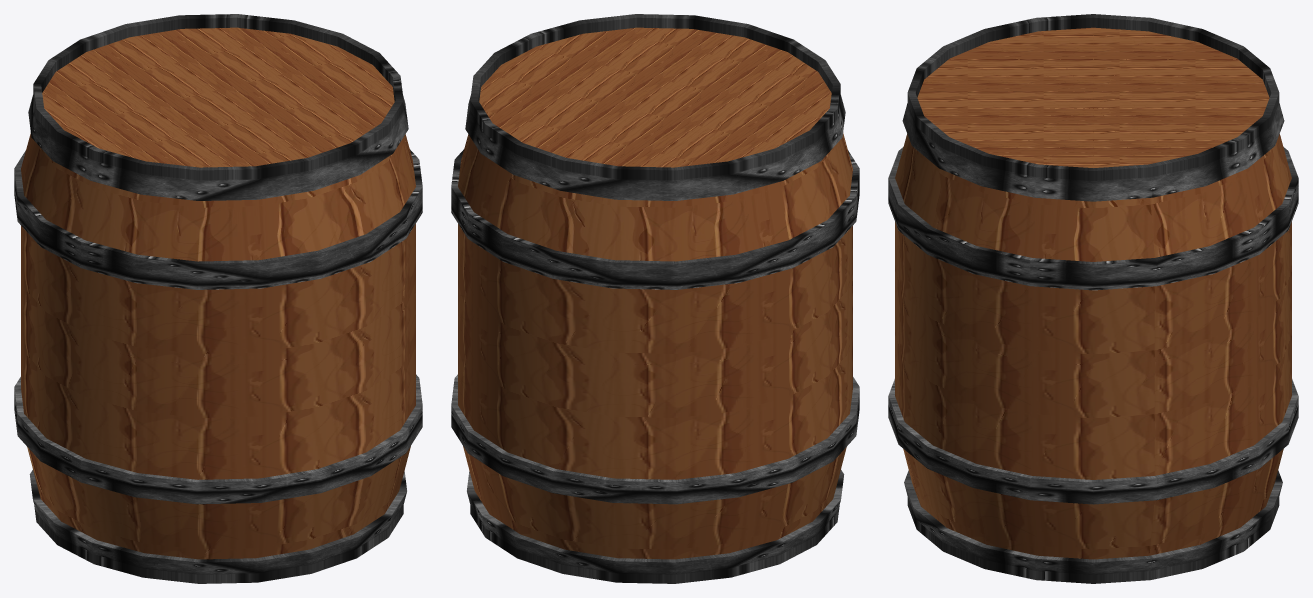
File: baril.fbx
3 renders of one model, left to right at view 1: azimuth 30°, elevation 25°; view 2: azimuth 150°, elevation 25°; view 3: azimuth 270°, elevation 25°, orthographic.
Visible parts, largest first — view 1: pCylinder1; view 2: pCylinder1; view 3: pCylinder1.
Boxes of the visible parts, bbox=[...] form: pCylinder1: bbox=[14, 14, 422, 583]; pCylinder1: bbox=[451, 14, 859, 583]; pCylinder1: bbox=[888, 14, 1298, 583].
Size of the model in its own units: 13.31 by 14.79 by 13.31.
